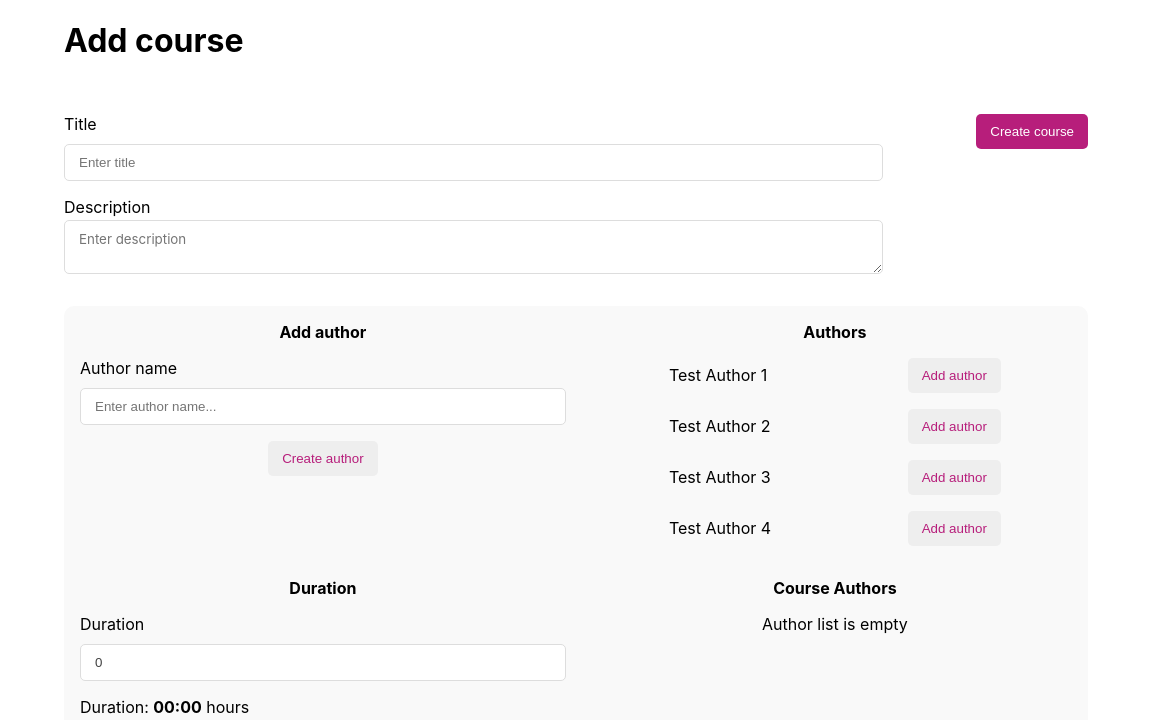
Test: CourseForm `Delete author` button click should remove an author from course authors list. › `Delete author` button click sadds author to course authors list
This screenshot has width=1152, height=720.
Click the button with test id "select-author-Test Author 3" at (954, 477), box [908,460,1001,495]
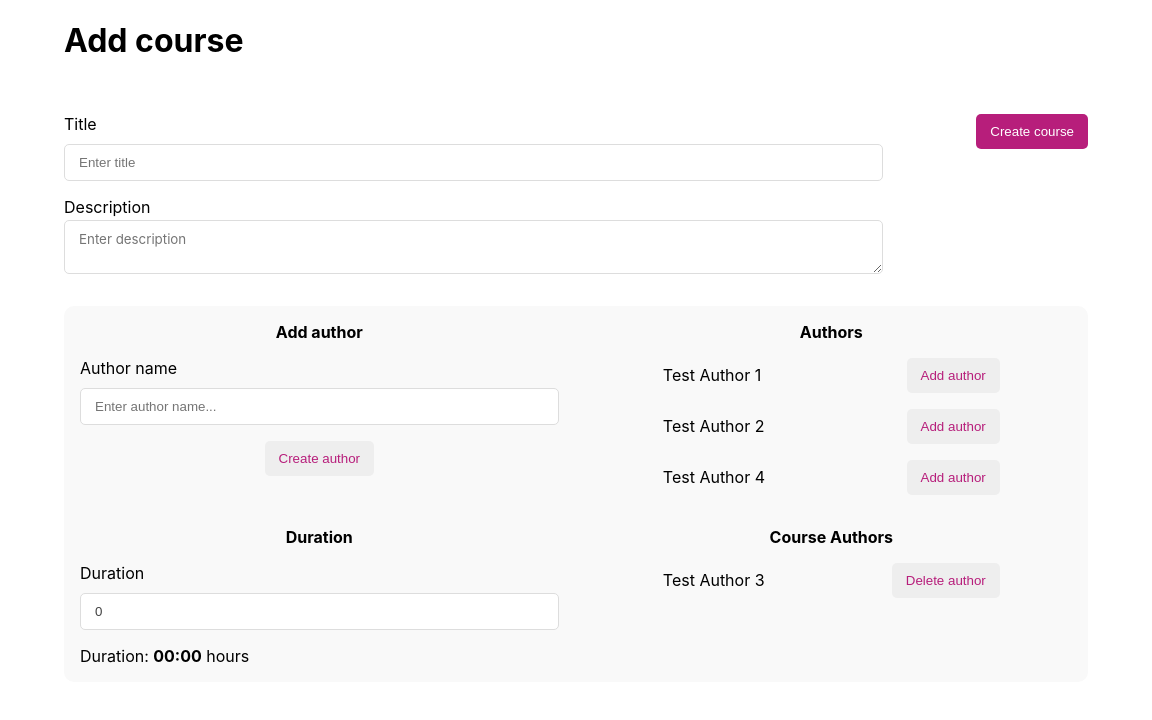
Click the button "Delete author" at (946, 580), box [892,563,1000,598]
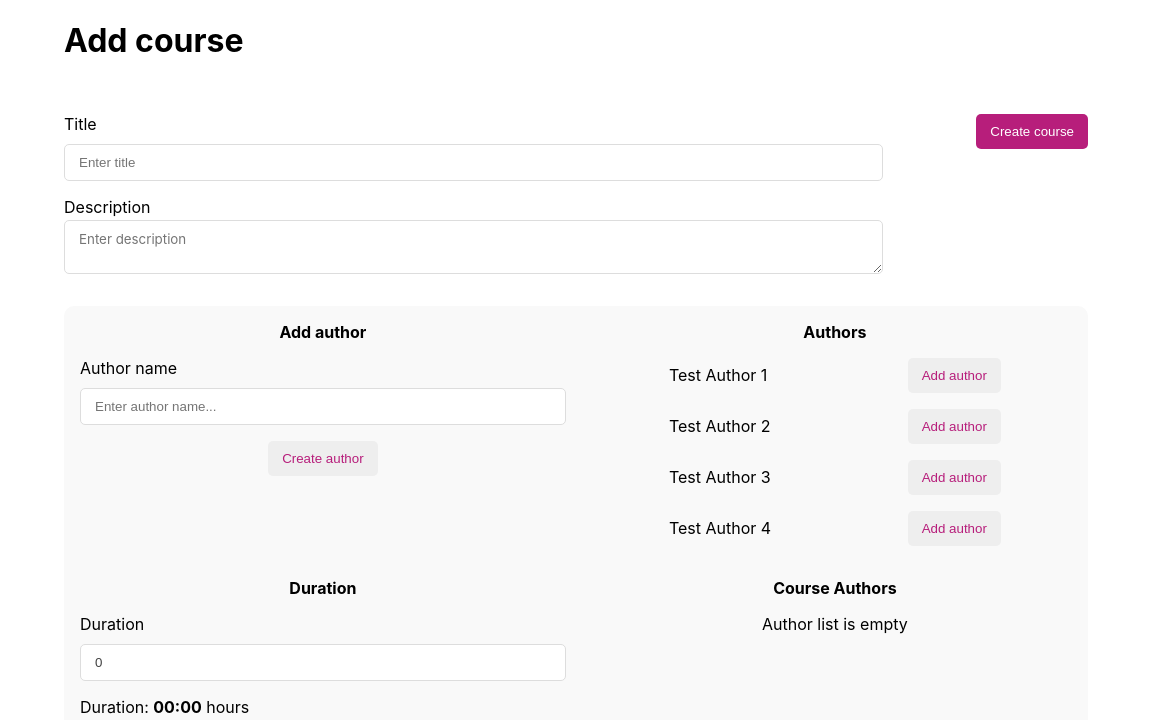
expect the text "Author list is empty" is shown: met, box [762,614,908,634]
